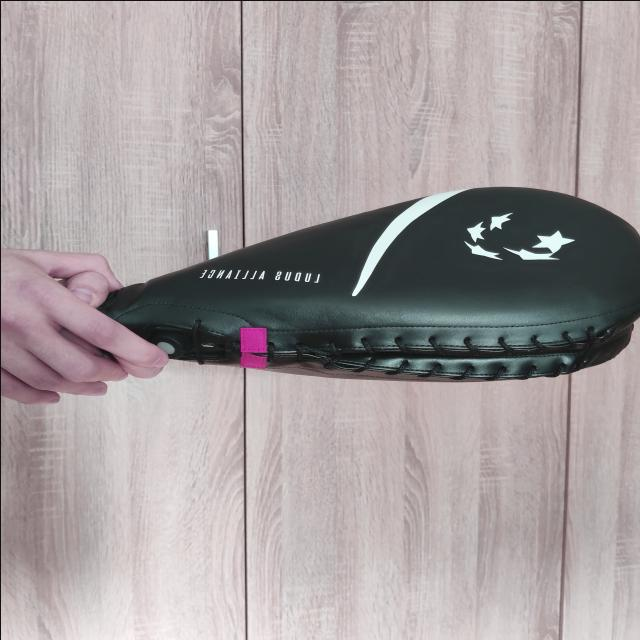paddle: (94, 180, 640, 385)
